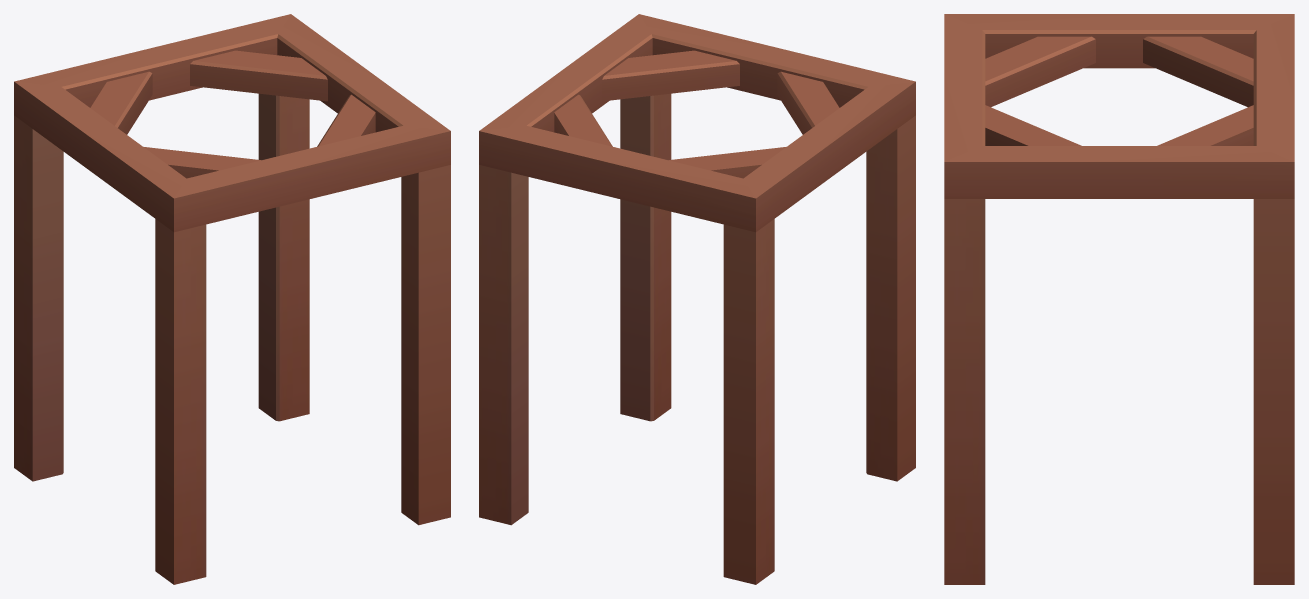
File: scaffold_frame_small.glb
3 renders of one model, left to right at view 1: azimuth 30°, elevation 25°; view 2: azimuth 150°, elevation 25°; view 3: azimuth 270°, elevation 25°, orthographic. The views are drawn at different scales.
Parts seen in each view (by area): view 1: scaffold_frame_small; view 2: scaffold_frame_small; view 3: scaffold_frame_small.
Part boxes in pixels (box(x1,y1,x2,y2)): scaffold_frame_small: box(14, 14, 450, 584); scaffold_frame_small: box(479, 14, 915, 584); scaffold_frame_small: box(944, 14, 1294, 584).
Size of the model in its own units: 3 by 4 by 3.
1 material, 1 textured.
